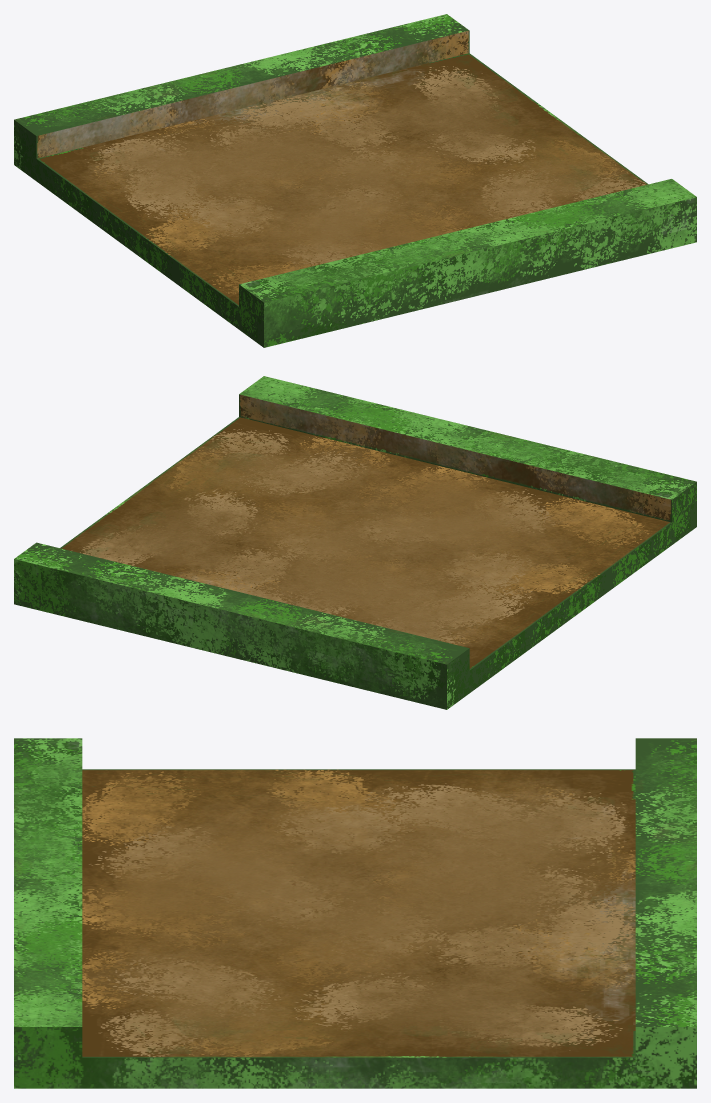
File: Street.fbx
3 views of the same model, one above another, from view 1: azimuth 30°, elevation 25°; view 2: azimuth 150°, elevation 25°; view 3: azimuth 270°, elevation 25° (orthographic). The views are drawn at different scales.
Visible parts, largest first — view 1: street; view 2: street; view 3: street.
Boxes of the visible parts, bbox=[...] form: street: bbox=[14, 14, 696, 347]; street: bbox=[14, 376, 696, 709]; street: bbox=[14, 738, 696, 1088].
Bounding box in the file's own units: 200 × 20 × 200.
1 material, 1 textured.
